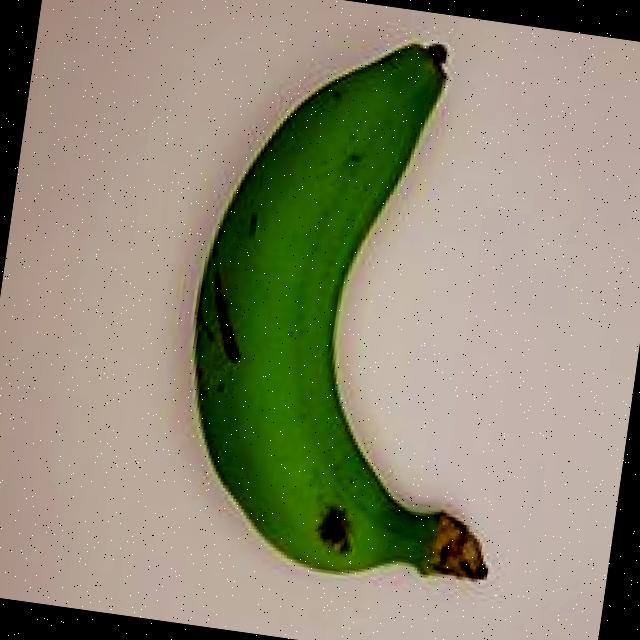Raw: (114, 0, 580, 615)
